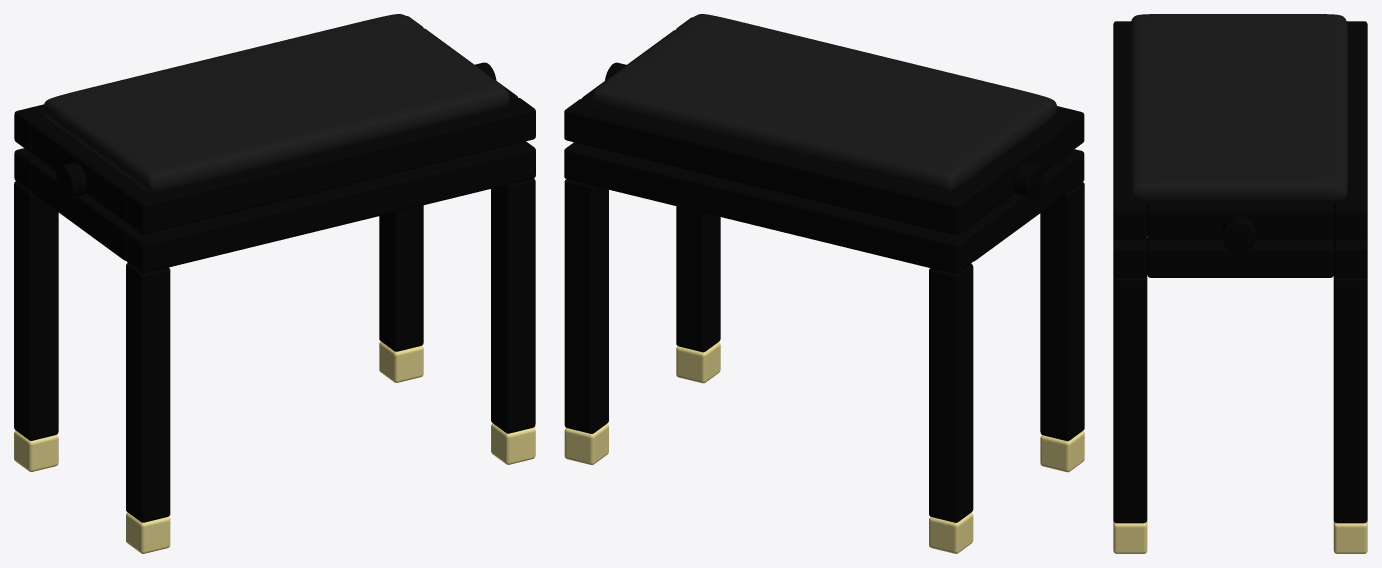
File: piano_bank.fbx
3 renders of one model, left to right at view 1: azimuth 30°, elevation 25°; view 2: azimuth 150°, elevation 25°; view 3: azimuth 270°, elevation 25°, orthographic.
Visible parts, largest first — view 1: leather, top1, bank_bottom1, leg1, leg4, leg2, leg3, top2, bank_bottom2, foot3, foot1, foor4 (+4 smaller); view 2: leather, top3, bank_bottom3, leg2, leg3, leg1, leg4, top2, bank_bottom2, foot1, foor4, foot3 (+4 smaller); view 3: leather, leg3, leg4, bank_bottom4, top4, top3, top1, bank_bottom1, bank_bottom3, foot3, foor4, handle_l.
Part boxes in pixels (x1,y1,x2,y2): leather: (43,14,509,192); top1: (126,98,535,234); bank_bottom1: (126,141,535,273); leg1: (126,263,170,522); leg4: (491,178,535,433); leg2: (14,181,58,440); leg3: (379,205,423,351); top2: (31,119,143,221); bank_bottom2: (31,161,135,260); foot3: (379,341,423,382); foot1: (126,512,170,553); foor4: (491,423,535,464); leather: (592,14,1057,191); top3: (564,99,972,235); bank_bottom3: (564,142,972,274); leg2: (929,264,973,522); leg3: (564,179,608,433); leg1: (1040,182,1084,441); leg4: (676,206,720,352); top2: (956,121,1067,222); bank_bottom2: (963,162,1067,261); foot1: (1040,431,1084,472); foor4: (676,342,720,383); foot3: (564,424,608,464); leather: (1129,14,1348,202); leg3: (1333,275,1367,523); leg4: (1113,275,1147,523); bank_bottom4: (1147,238,1333,277); top4: (1147,202,1333,239); top3: (1333,21,1367,239); top1: (1113,21,1147,239); bank_bottom1: (1113,237,1147,277); bank_bottom3: (1333,237,1367,277); foot3: (1333,520,1367,553); foor4: (1113,520,1147,553); handle_l: (1222,216,1255,252).
Size of the model in its own units: 57 by 47.3 by 30.
